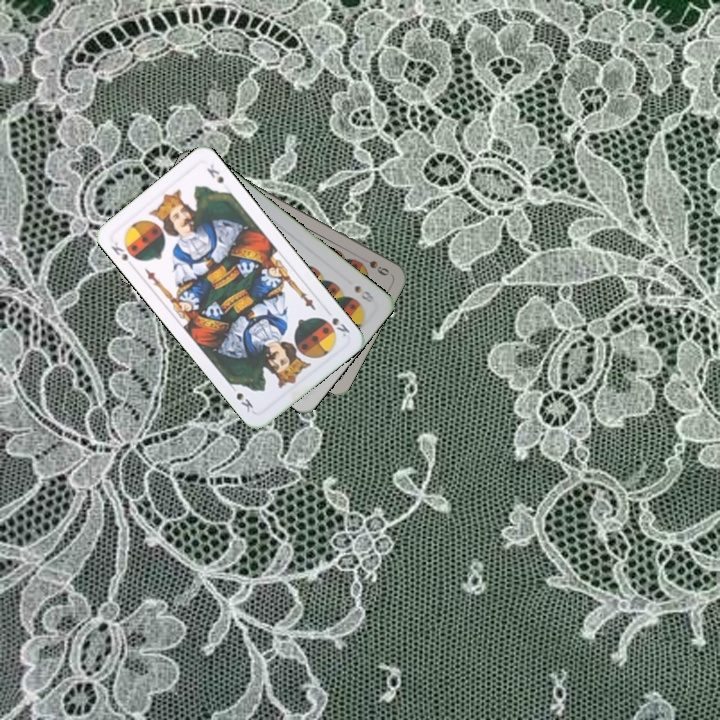S8: (350, 281, 377, 305)
S9: (365, 256, 392, 278)
SK: (321, 305, 352, 339), (107, 238, 130, 264)
